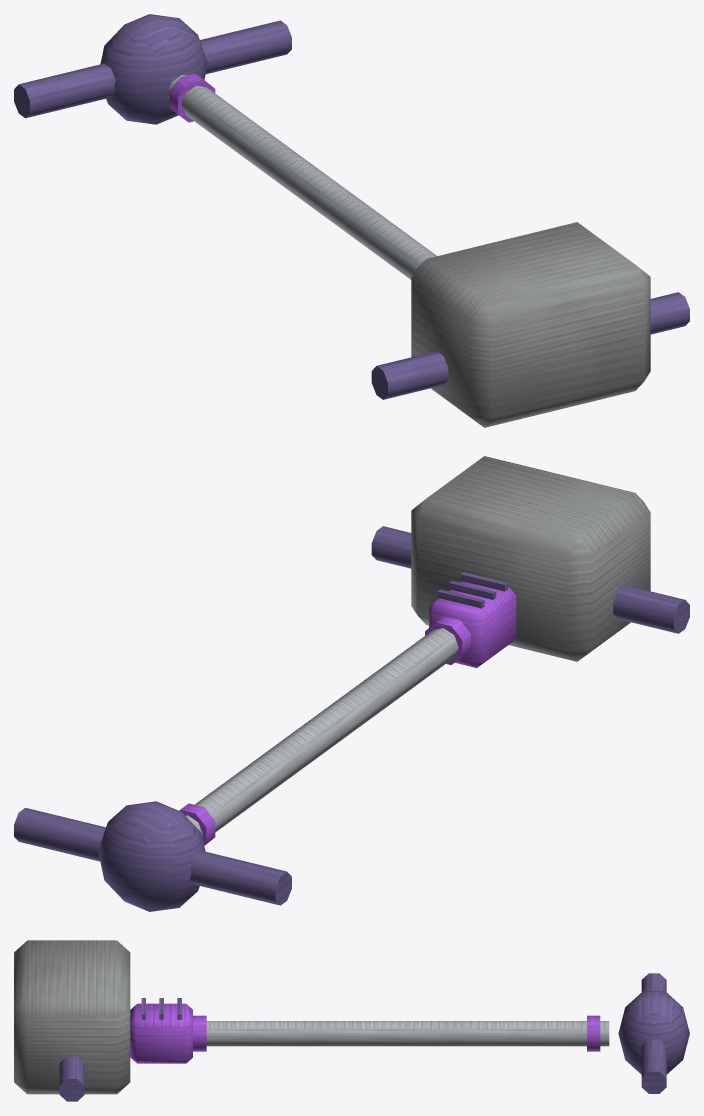
File: conversao_tracao_n5.glb
3 views of the same model, one above another, from view 1: azimuth 30°, elevation 25°; view 2: azimuth 150°, elevation 25°; view 3: azimuth 270°, elevation 25° (orthographic). The views are drawn at different scales.
Visible parts, largest first — view 1: conversao_tracao_n5; view 2: conversao_tracao_n5; view 3: conversao_tracao_n5.
Boxes of the visible parts, <box> form: conversao_tracao_n5: <box>14,14,689,427</box>; conversao_tracao_n5: <box>14,456,689,911</box>; conversao_tracao_n5: <box>14,940,689,1101</box>.
Bounding box in the file's own units: 0.6 × 0.26 × 1.51.
Materials: 2 (2 with a texture image).
